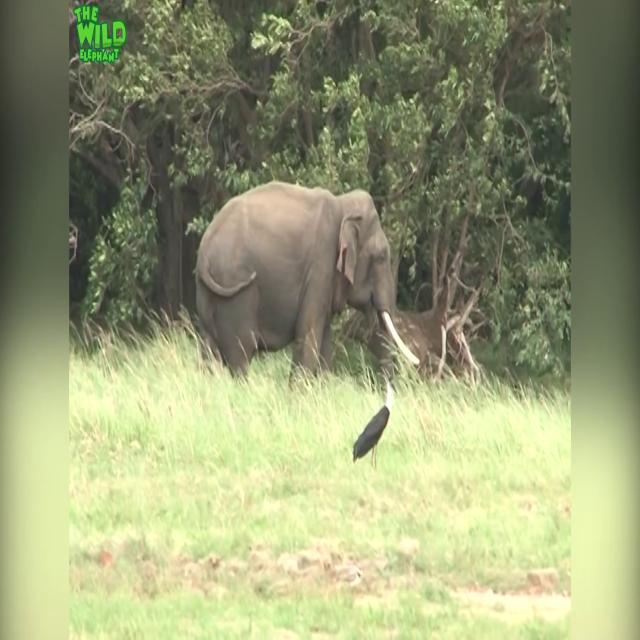Elephant: (193, 179, 420, 394)
